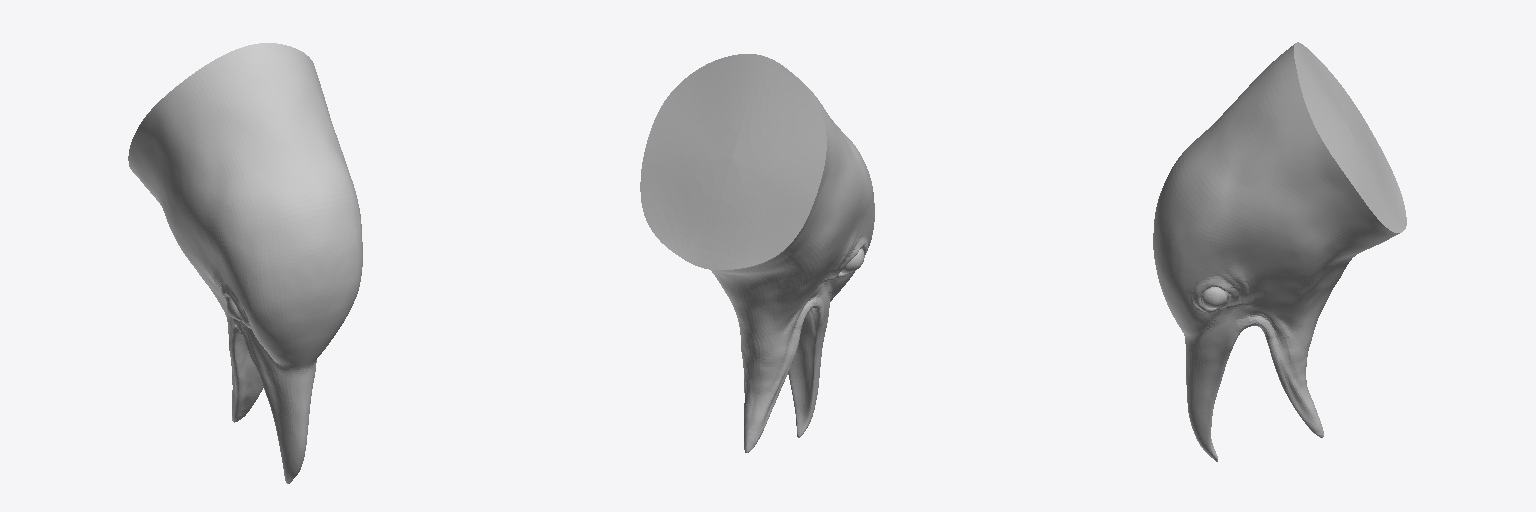
The model's file is raven.obj.
The picture shows the model from 3 angles: view 1: azimuth 30°, elevation 25°; view 2: azimuth 150°, elevation 25°; view 3: azimuth 270°, elevation 25°; orthographic projection.
Parts seen in each view (by area): view 1: RavenCawing; view 2: RavenCawing; view 3: RavenCawing.
Part boxes in pixels (x1,y1,x2,y2): RavenCawing: (128,43,362,483); RavenCawing: (640,54,874,452); RavenCawing: (1153,42,1406,461).
Size of the model in its own units: 5.33 by 12.11 by 6.76.